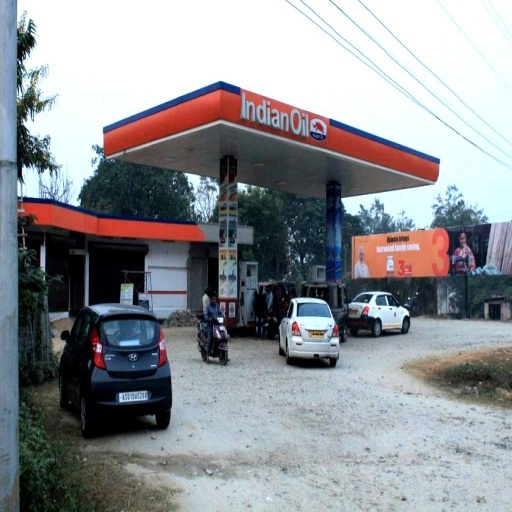roof: (104, 83, 440, 198)
